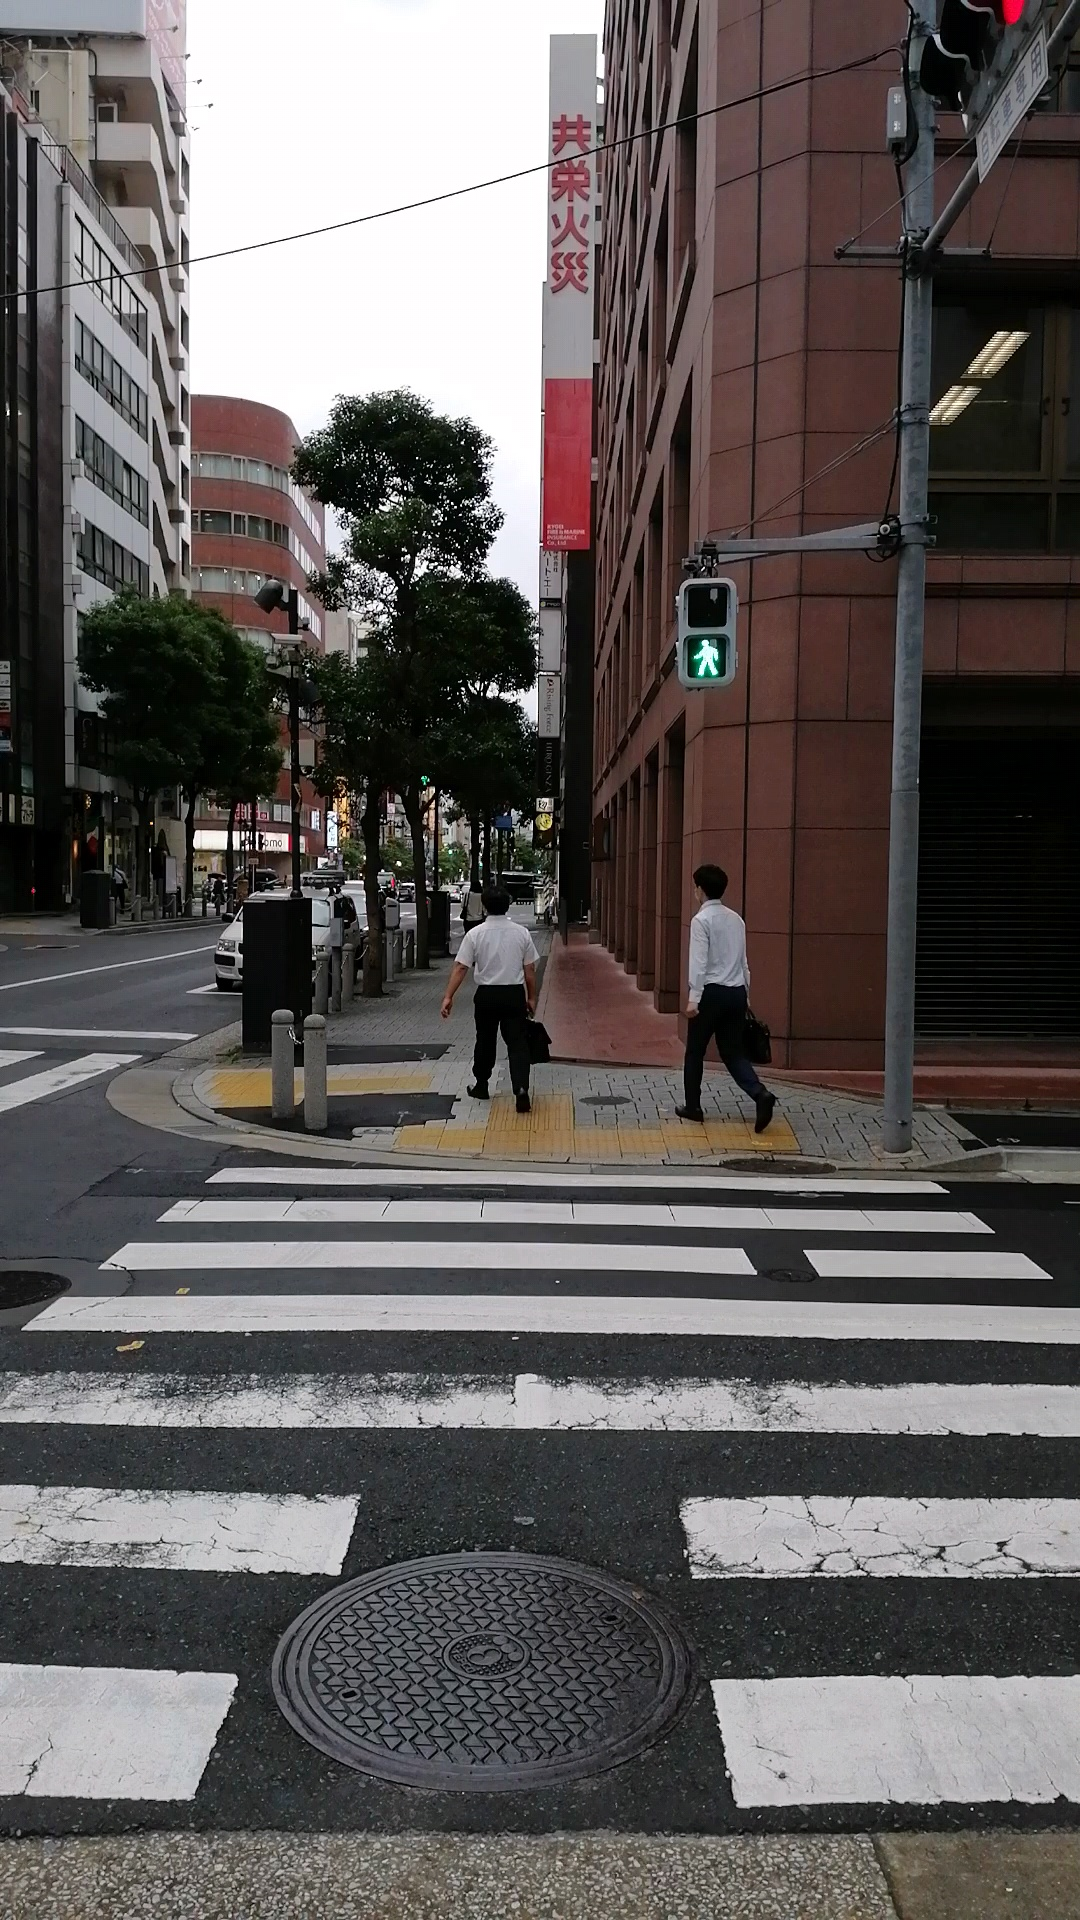green: (676, 579, 735, 684)
